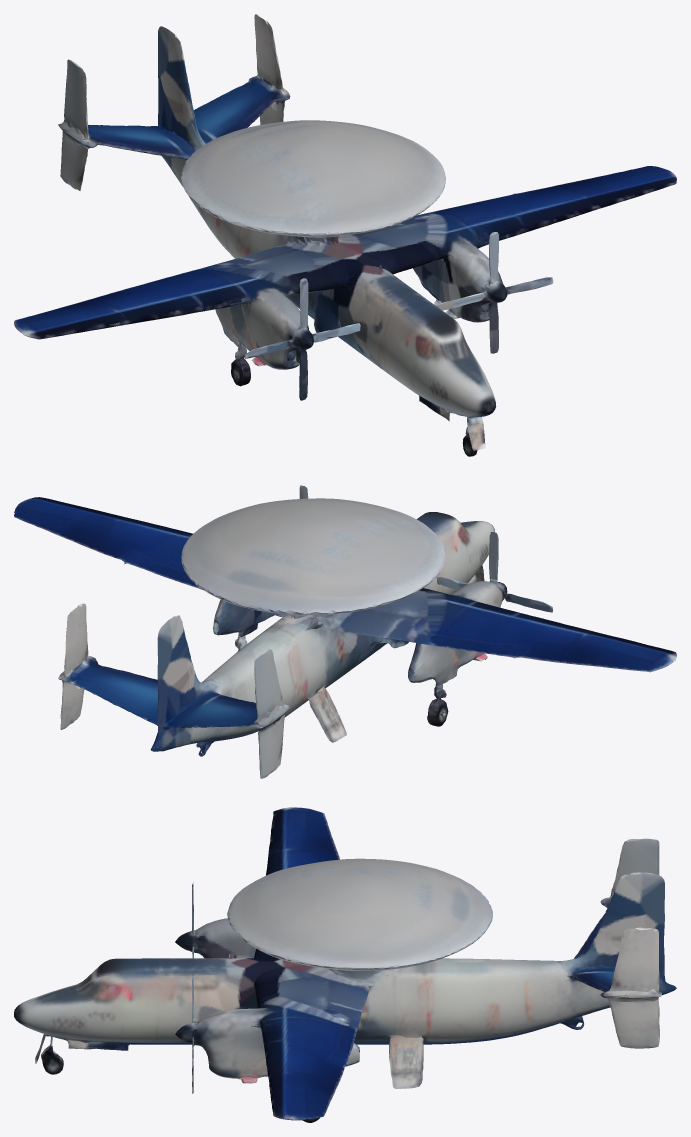
File: E-2D_Advanced_Hawkeye_AI_Rodin.glb
The picture shows the model from 3 angles, top to bottom: view 1: azimuth 30°, elevation 25°; view 2: azimuth 150°, elevation 25°; view 3: azimuth 270°, elevation 25°; orthographic projection. The views are drawn at different scales.
Parts seen in each view (by area): view 1: model; view 2: model; view 3: model.
Part boxes in pixels (<box>): model: <box>14,14,676,456</box>; model: <box>14,485,676,778</box>; model: <box>14,807,676,1122</box>.
Size of the model in its own units: 1.9 by 0.5732 by 1.71.
Materials: 1 (1 with a texture image).
